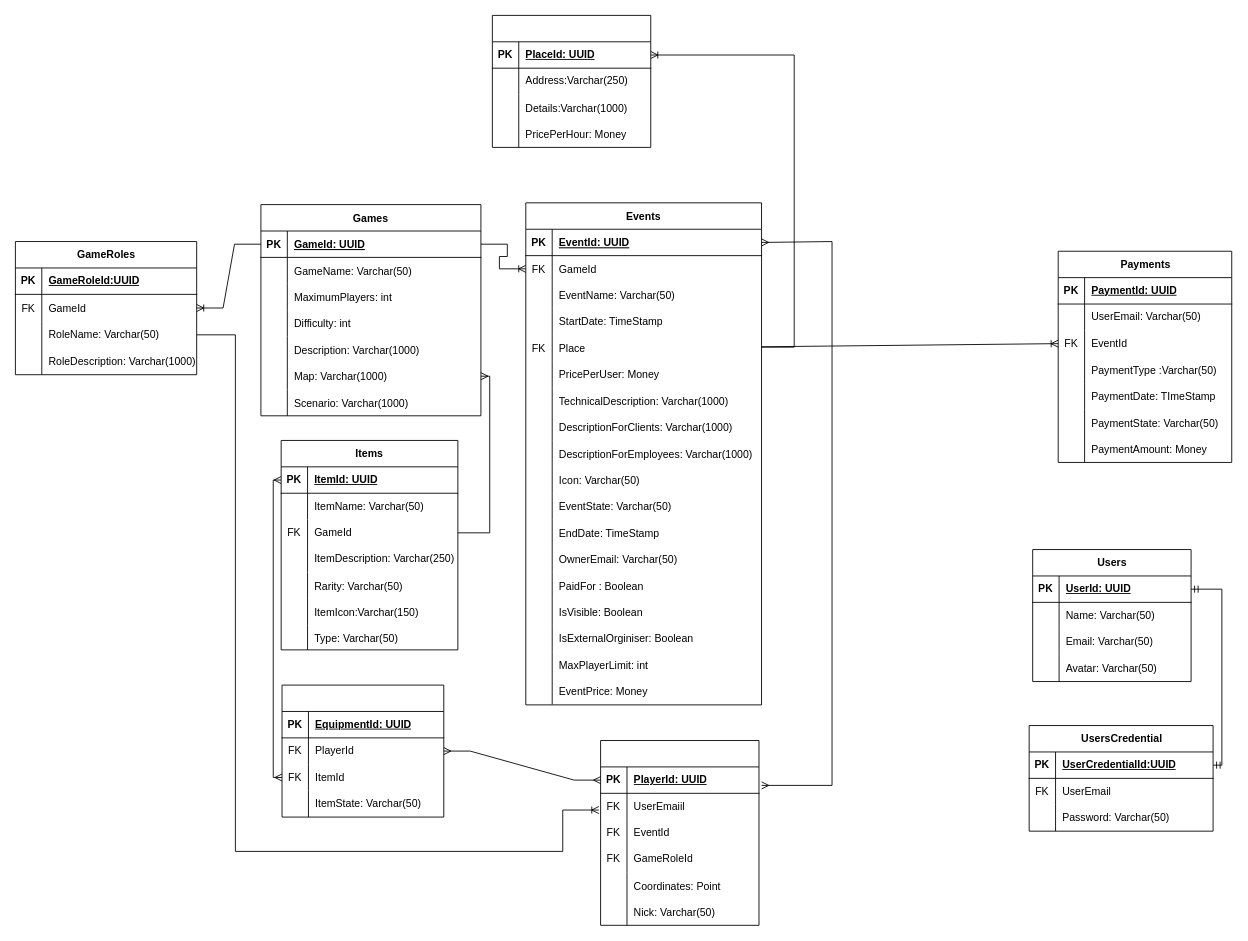
Image size: 1248x941. Some labels were removed from this diagram. The shapes that lost their labels are listed below. From the top down, each one's box as (x1, y1, x2, y2) in pixels, then its label:
(491, 15, 651, 147): Places
(281, 684, 444, 817): Equipments
(600, 740, 759, 925): Players
